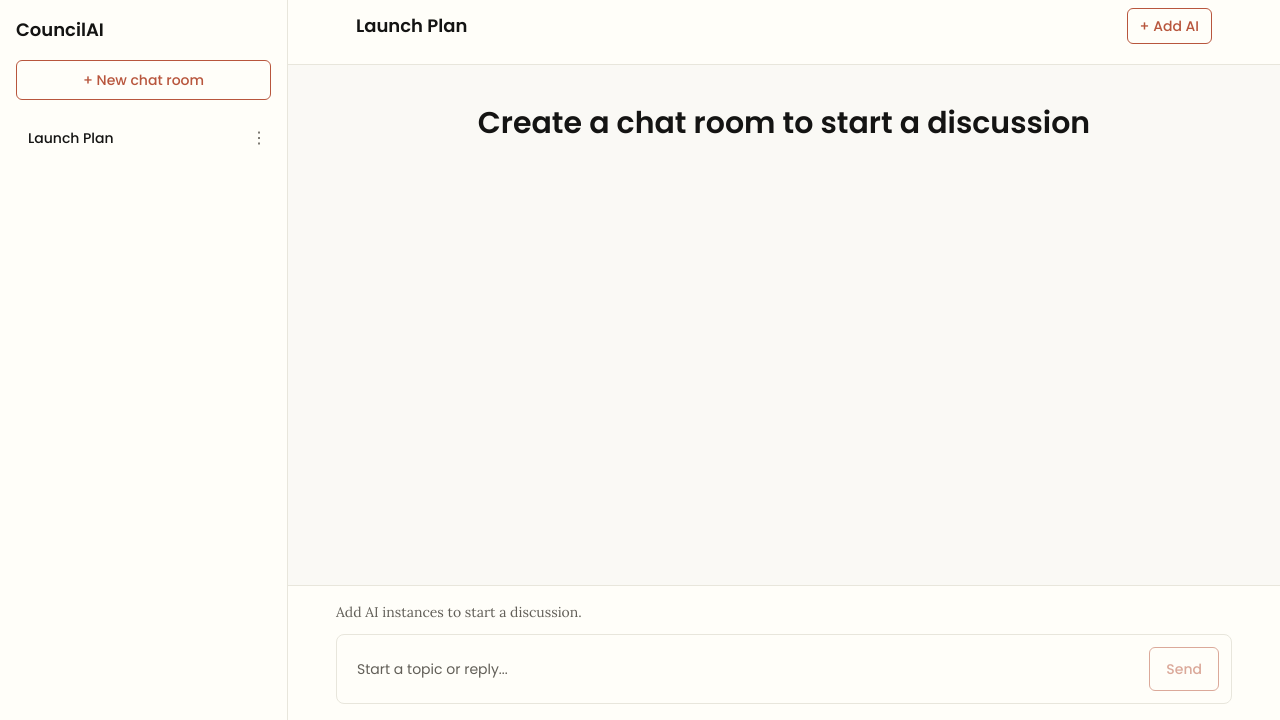
ChatShell › shows chat room options on each chat room row instead of the header
The image size is (1280, 720).
Expected: the heading "Launch Plan" is shown, 356,13 -> 467,38
Click the button named "Launch Plan options" at (259, 138), box 247,126 -> 271,150
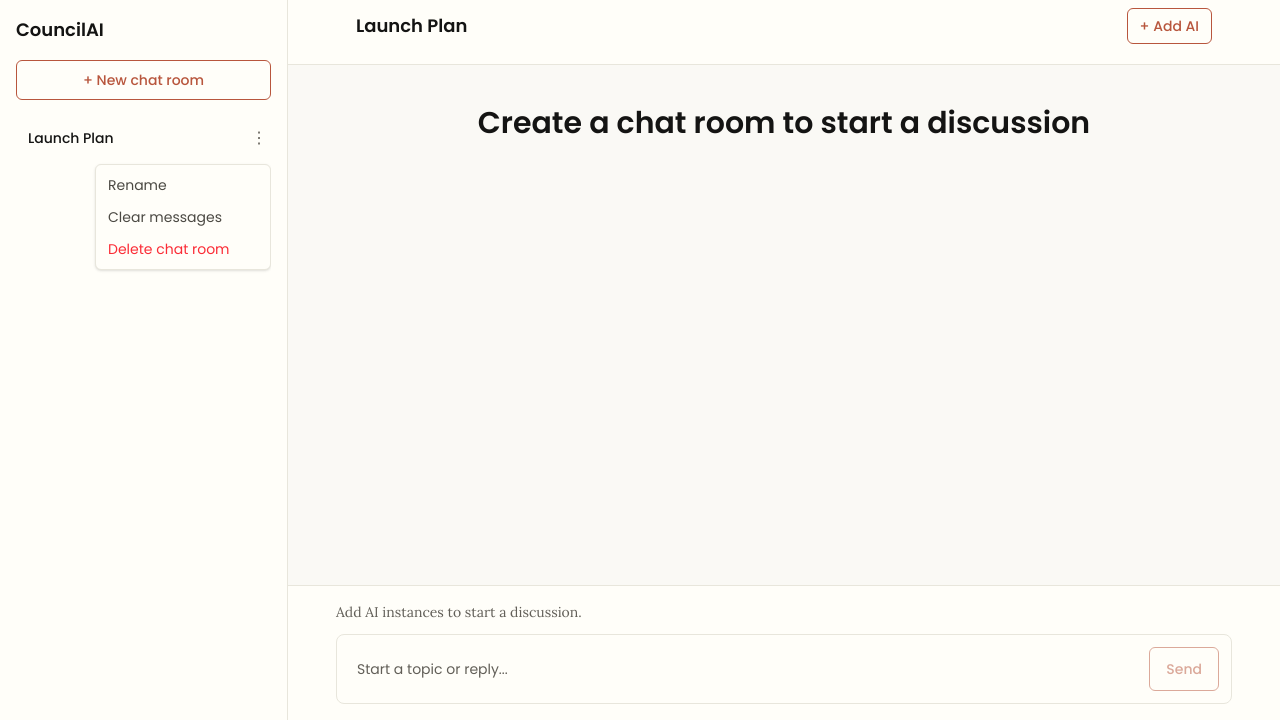
Result: the button "Rename" is shown at 96,169 -> 270,201
Result: the button "Clear messages" is shown at 96,201 -> 270,233
Result: the button "Delete chat room" is shown at 96,233 -> 270,265
